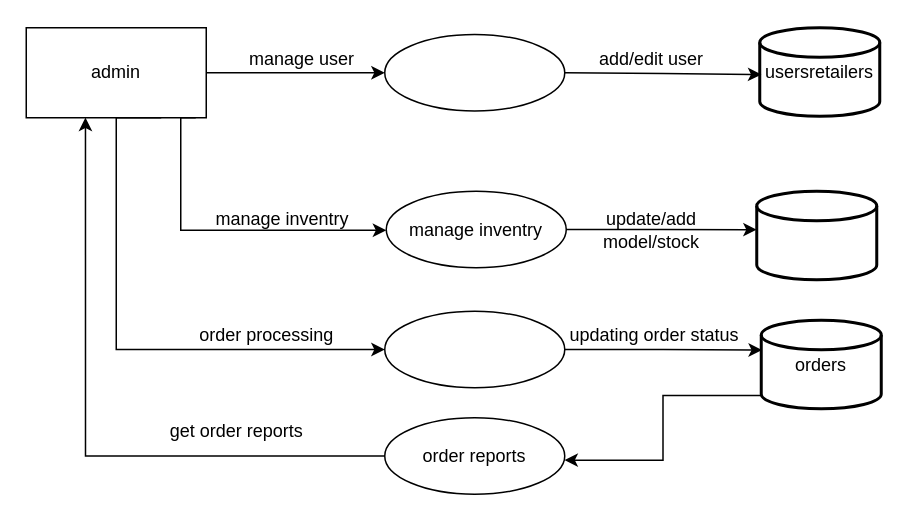
Image size: 909x521. Some labels were removed from this diagram. The centre of each missing label's shape, as x and y in pixels:
footwear_model footwear_stock: the point at 816,234
order management: the point at 474,349
user management: the point at 474,72
